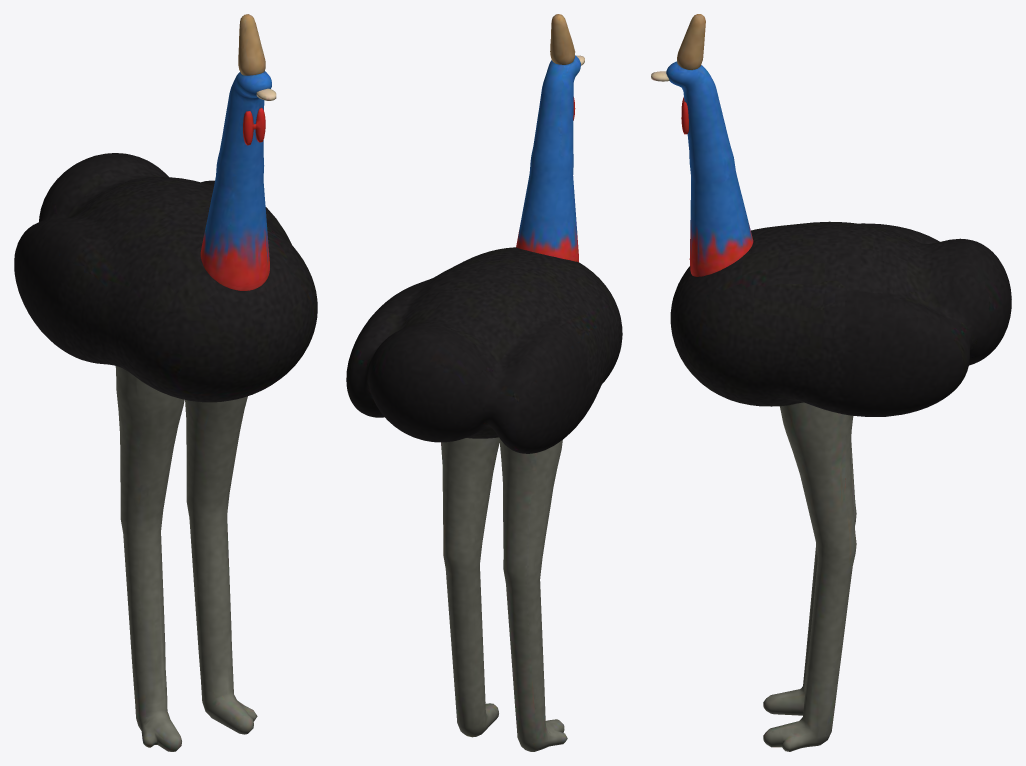
File: animal_cassowary.glb
3 renders of one model, left to right at view 1: azimuth 30°, elevation 25°; view 2: azimuth 150°, elevation 25°; view 3: azimuth 270°, elevation 25°, orthographic. The views are drawn at different scales.
Parts seen in each view (by area): view 1: animal_cassowary, leg0, leg1, head; view 2: animal_cassowary, leg0, leg1, head; view 3: animal_cassowary, leg1, head, leg0.
Part boxes in pixels (bbox=[...]): animal_cassowary: bbox=[14, 153, 317, 402]; leg0: bbox=[115, 366, 184, 751]; leg1: bbox=[185, 396, 257, 734]; head: bbox=[200, 14, 276, 290]; animal_cassowary: bbox=[346, 247, 622, 453]; leg0: bbox=[499, 438, 567, 751]; leg1: bbox=[441, 437, 499, 737]; head: bbox=[516, 14, 584, 262]; animal_cassowary: bbox=[670, 221, 1011, 416]; leg1: bbox=[763, 402, 856, 751]; head: bbox=[651, 14, 753, 276]; leg0: bbox=[763, 443, 856, 715].
Size of the model in its own units: 0.3292 by 1.06 by 0.4831.
1 material, 1 textured.
